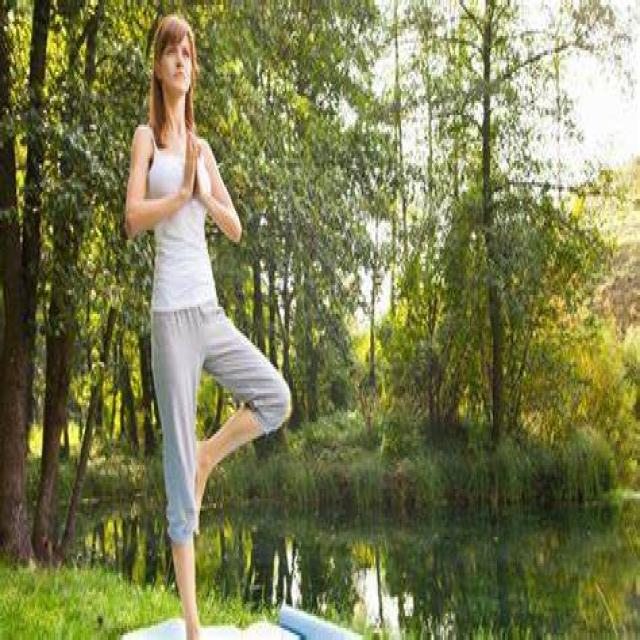stand: (140, 1, 245, 634)
